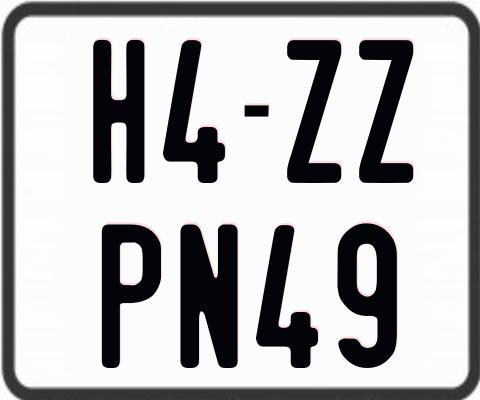4: (256, 224, 324, 370), (162, 37, 227, 181)
9: (336, 223, 396, 373)
H: (91, 39, 147, 184)
N: (180, 222, 243, 367)
P: (101, 222, 164, 372)
Z: (358, 37, 415, 184), (284, 39, 339, 187)
